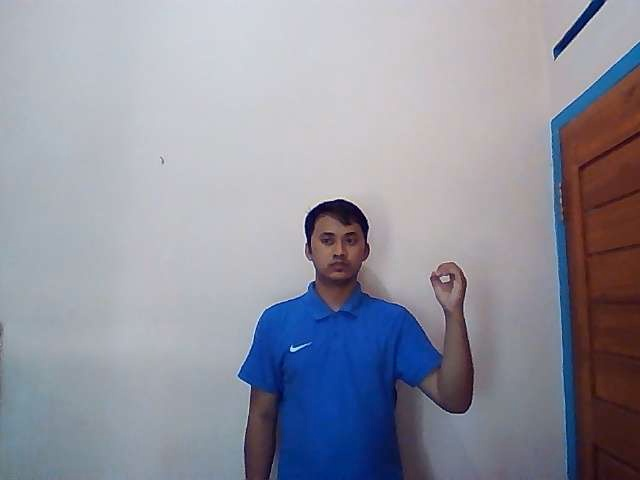O: (427, 261, 470, 314)
